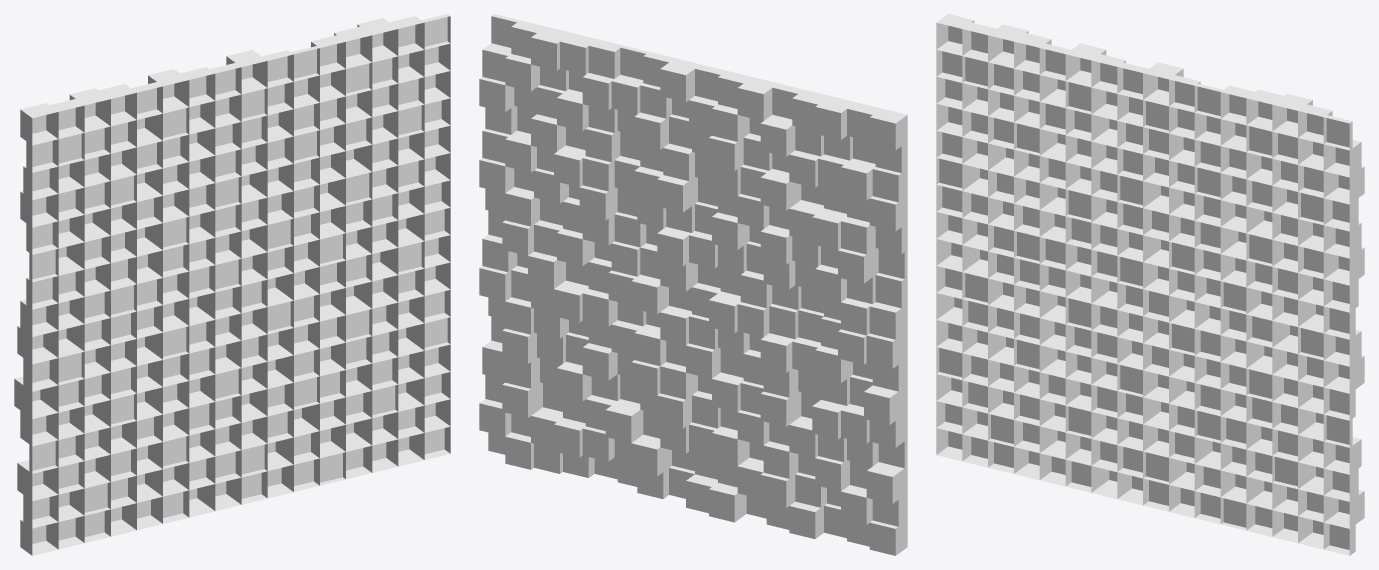
File: environementcube.obj
3 renders of one model, left to right at view 1: azimuth 30°, elevation 25°; view 2: azimuth 150°, elevation 25°; view 3: azimuth 330°, elevation 25°, orthographic.
Visible parts, largest first — view 1: Plane.003; view 2: Plane.003; view 3: Plane.003.
Part boxes in pixels (x1=…): Plane.003: x1=14, y1=14, x2=450, y2=555; Plane.003: x1=479, y1=14, x2=907, y2=555; Plane.003: x1=936, y1=14, x2=1364, y2=555.
Size of the model in its own units: 800 by 800 by 60.
Materials: 1 (1 with a texture image).
